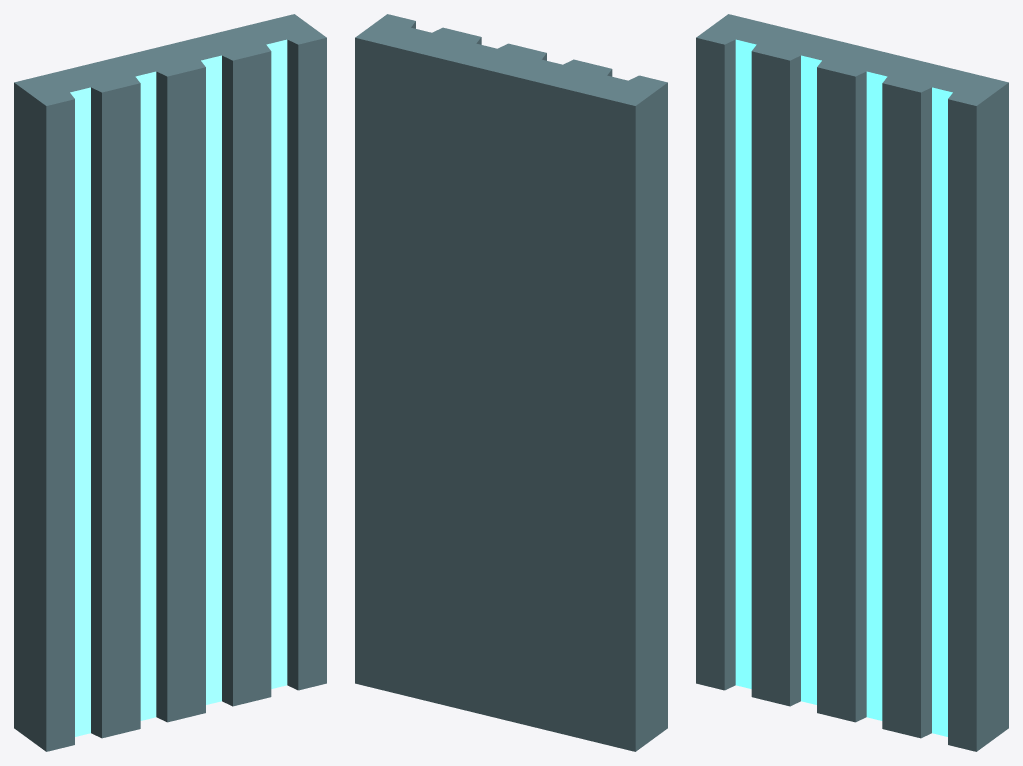
Rendered from W1_Wall_Ridge1.fbx.
3 renders of one model, left to right at view 1: azimuth 30°, elevation 25°; view 2: azimuth 150°, elevation 25°; view 3: azimuth 330°, elevation 25°, orthographic.
Visible parts, largest first — view 1: W1_Wall_Ridge1.001; view 2: W1_Wall_Ridge1.001; view 3: W1_Wall_Ridge1.001.
Boxes of the visible parts, <box> form: W1_Wall_Ridge1.001: <box>14,14,326,751</box>; W1_Wall_Ridge1.001: <box>355,14,667,751</box>; W1_Wall_Ridge1.001: <box>696,14,1008,751</box>.
Size of the model in its own units: 1 by 2.2 by 0.2.
